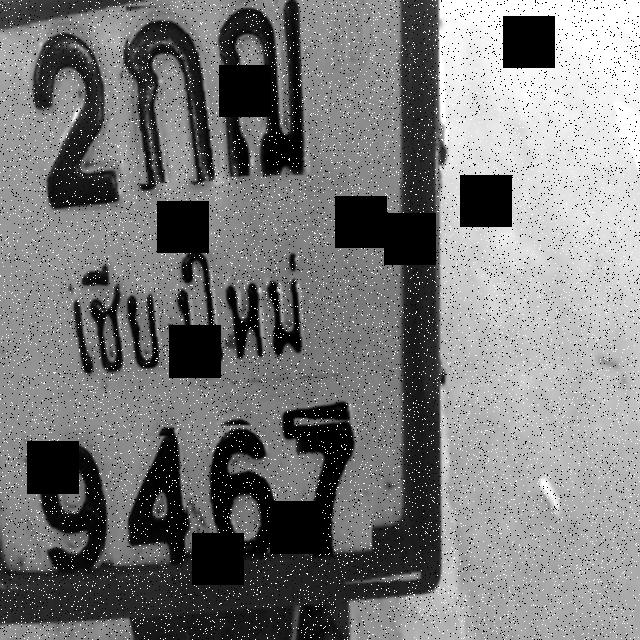letters: (2, 30, 123, 211), (220, 0, 325, 177), (126, 6, 220, 184), (26, 435, 110, 585), (192, 425, 279, 563), (294, 418, 372, 562), (113, 436, 187, 566)
license-plate: (0, 0, 425, 601)
province: (44, 224, 356, 400)
